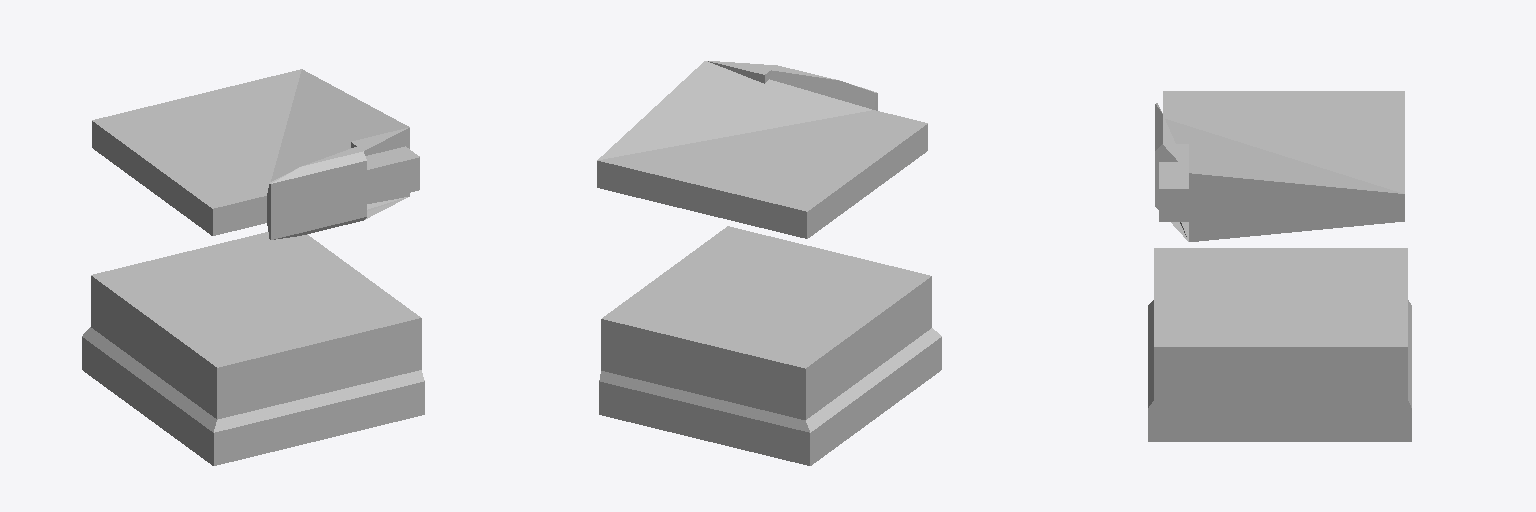
The model's file is leg.obj.
3 renders of one model, left to right at view 1: azimuth 30°, elevation 25°; view 2: azimuth 150°, elevation 25°; view 3: azimuth 270°, elevation 25°, orthographic.
Size of the model in its own units: 0.2331 by 0.2788 by 0.2456.